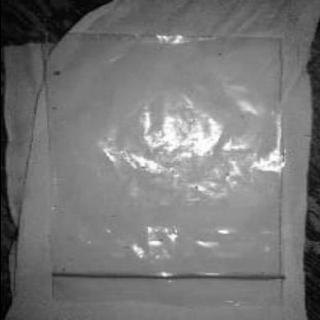objects: (31, 28, 292, 320)
